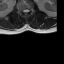CCS_normal: (25, 7, 27, 15)
LFS_normal: (29, 8, 31, 13)
LLS_normal: (27, 8, 29, 14)
RFS_stenosis: (20, 8, 23, 13)
RLS_normal: (23, 7, 25, 14)
